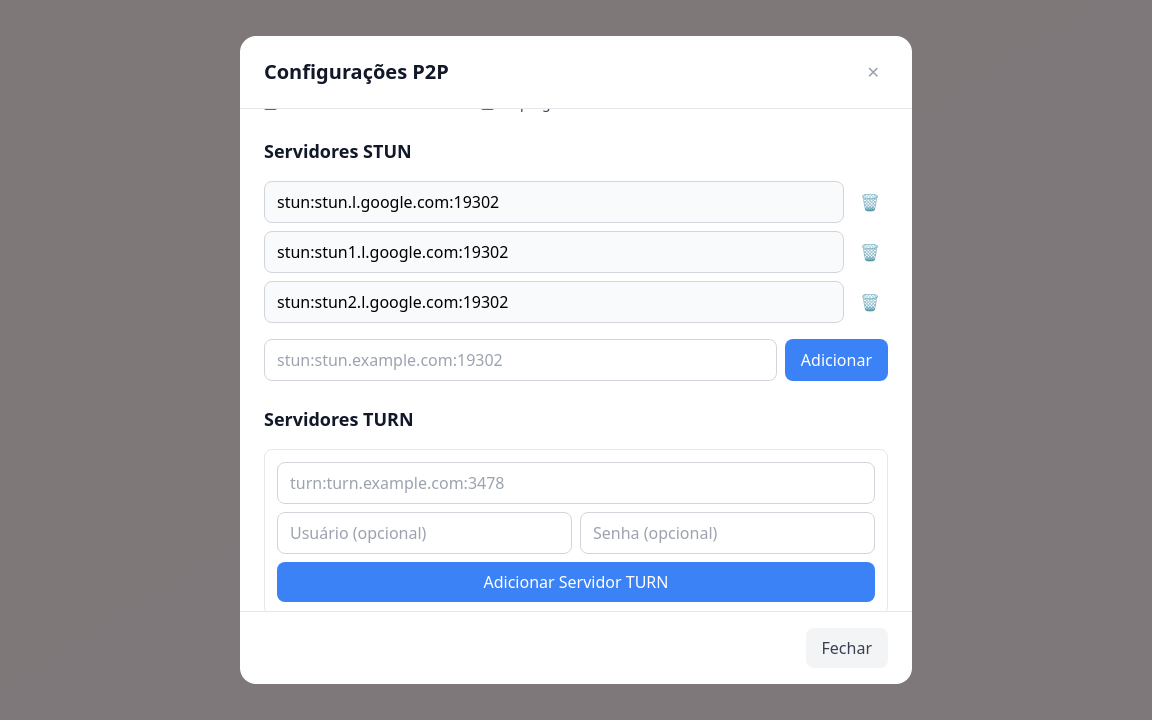
Test: P2PConfigPanel › validates STUN server input
The image size is (1152, 720).
(page scrolled)
// Try to add empty STUN server
Click the button "Adicionar". click: (836, 360)
box: [785,339,888,381]
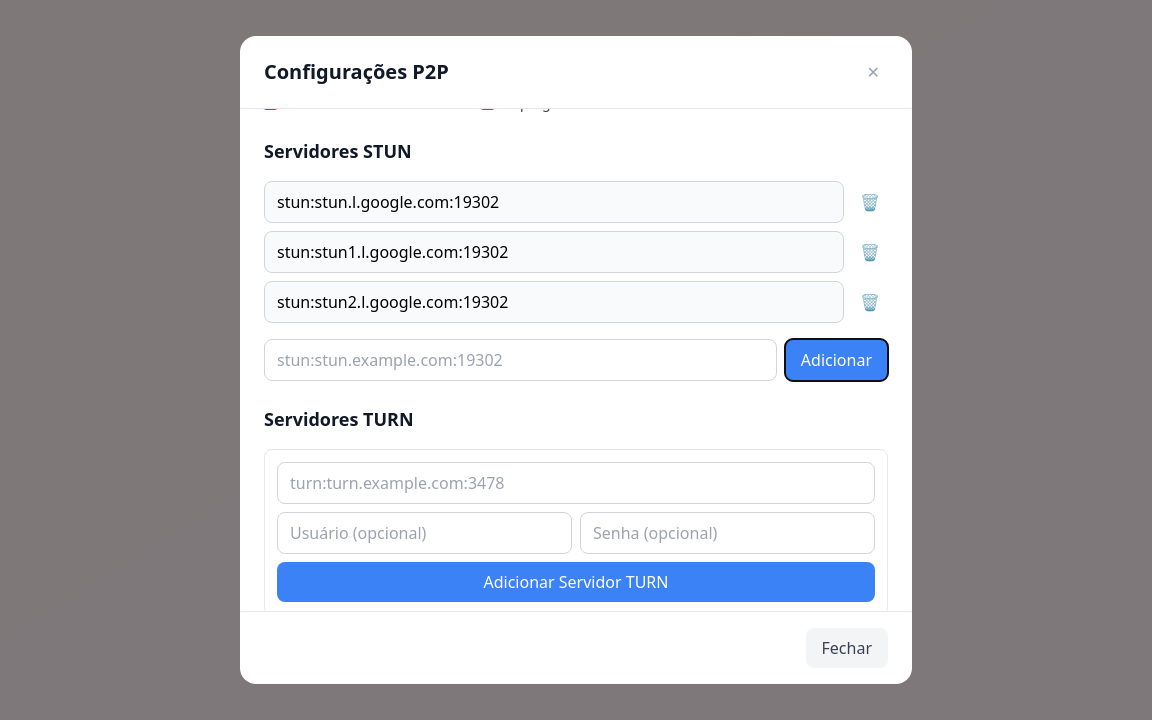
// Add valid STUN server
Type "stun:valid.server.com:19302" into the field with placeholder "stun:stun.example.com:19302". click: (520, 360)
box: [264,339,777,381]
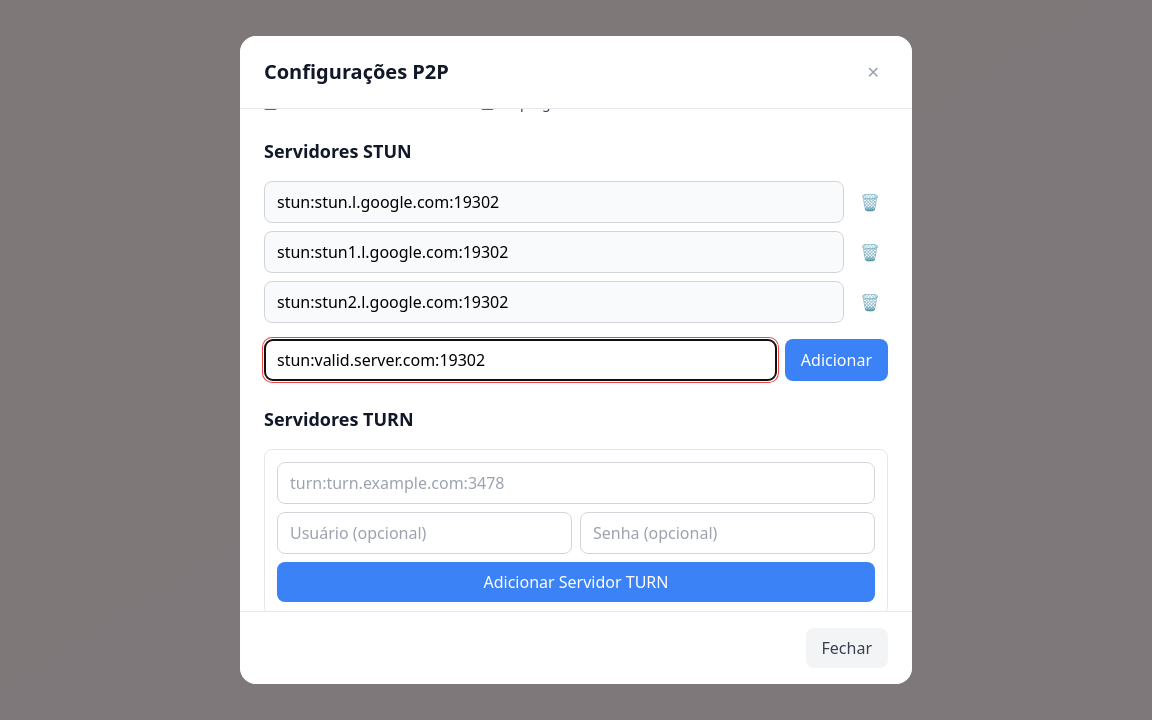
Click the button "Adicionar". click: (836, 360)
box: [785,339,888,381]
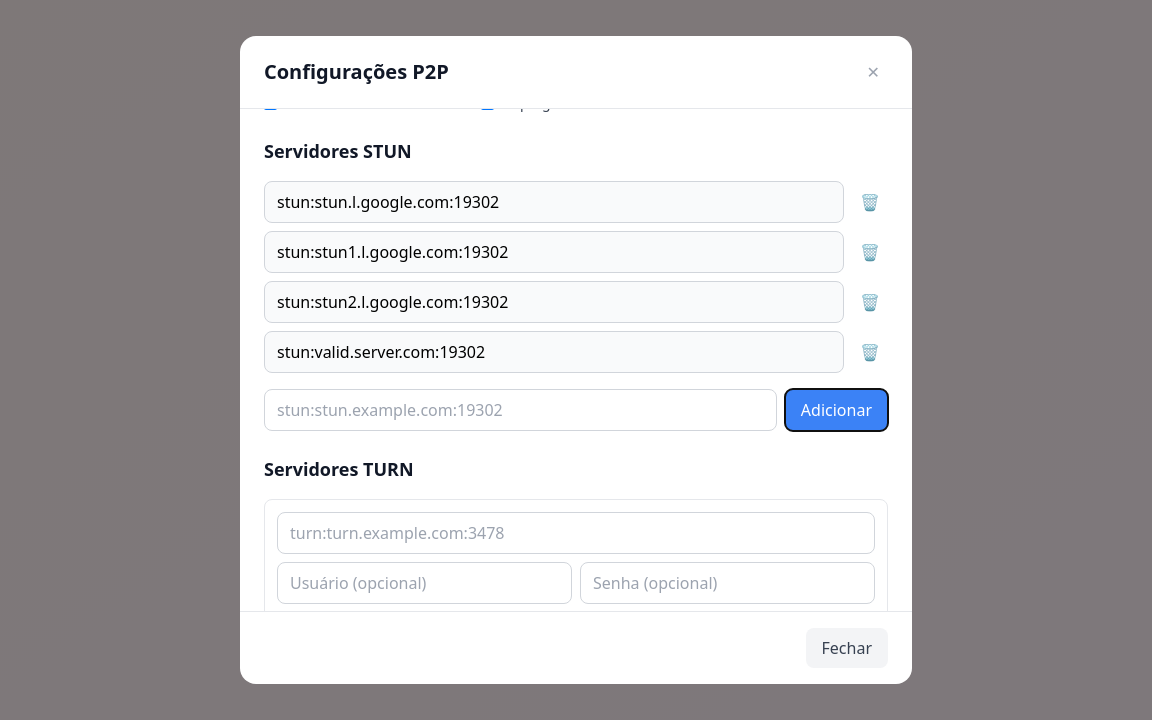
Expected: the number of fields showing "stun:" is 4, [264,181,844,223]; [264,231,844,273]; [264,281,844,323]; [264,331,844,373]
